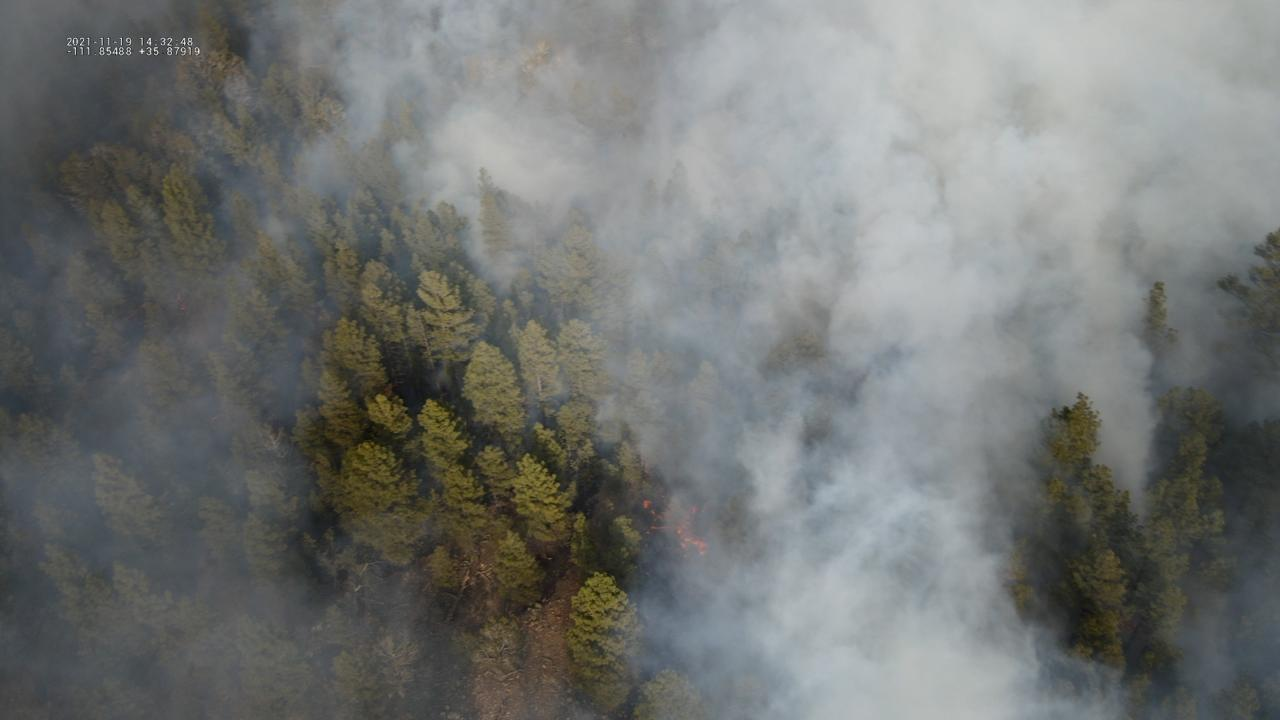fire: (640, 499, 711, 557)
smoke: (0, 0, 1280, 720)
